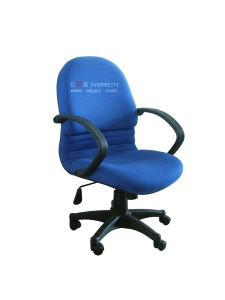chair: (54, 56, 186, 255)
